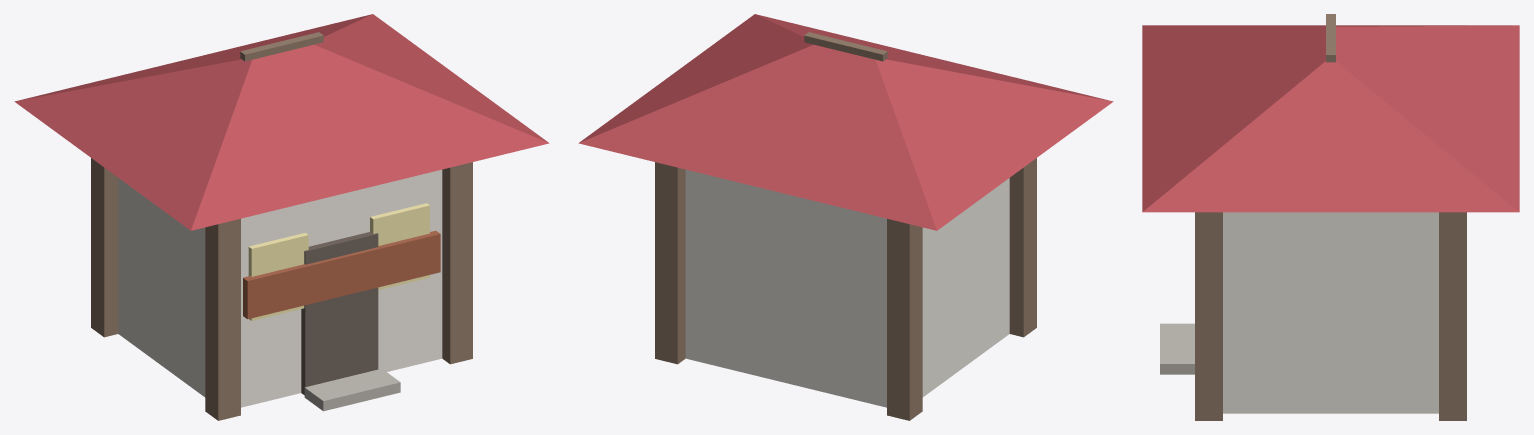
File: shop.glb
The picture shows the model from 3 angles, left to right: view 1: azimuth 30°, elevation 25°; view 2: azimuth 150°, elevation 25°; view 3: azimuth 270°, elevation 25°; orthographic projection. The views are drawn at different scales.
Bounding box in the file's own units: 4.42 × 3.53 × 3.77.
